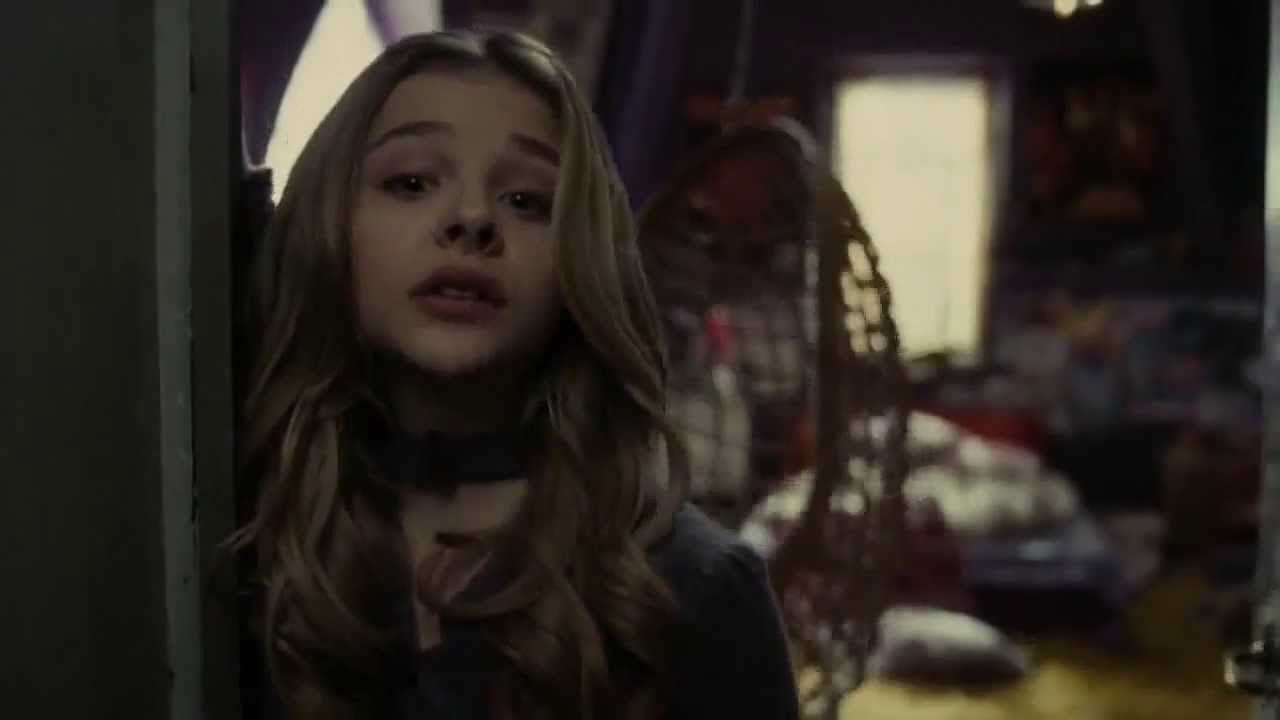GIRL: (343, 53, 596, 379)
